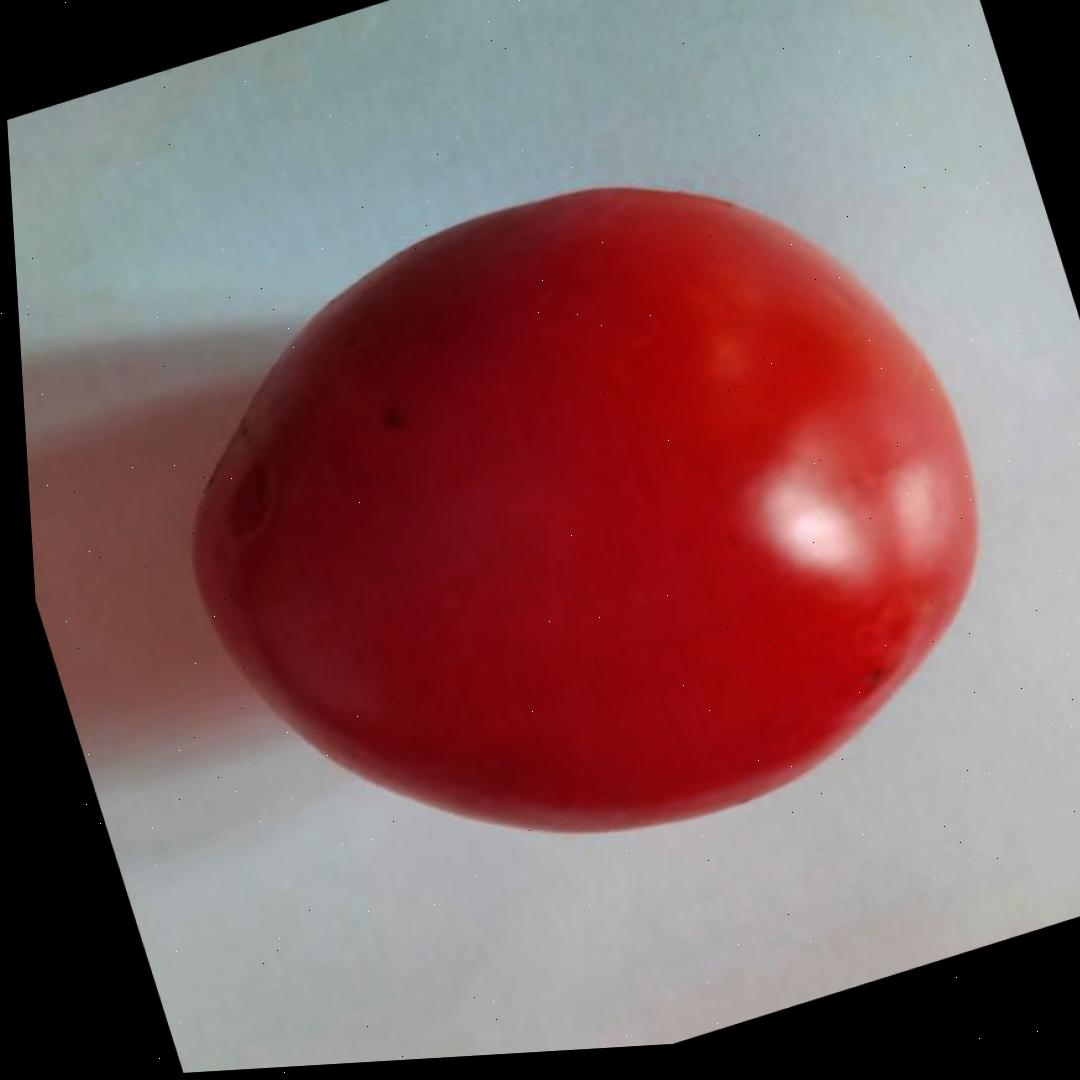matang: (99, 83, 1061, 950)
